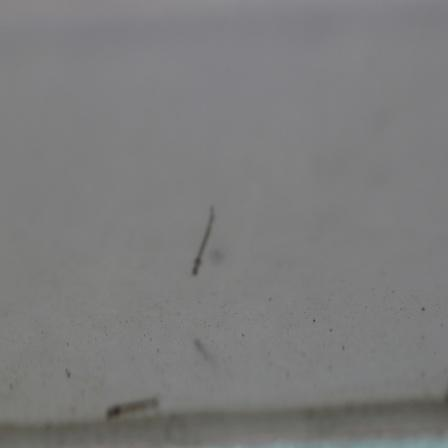Jentik-Nyamuk: (188, 205, 220, 277), (101, 389, 161, 423)
